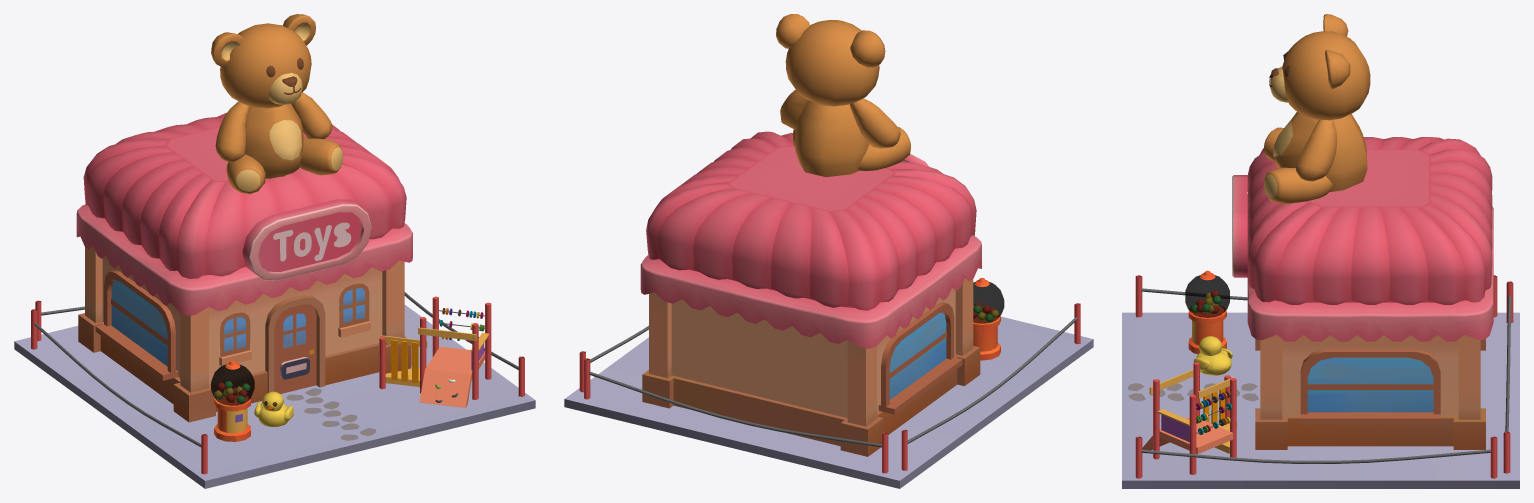
Rendered from ToyShop.fbx.
The picture shows the model from 3 angles, left to right: view 1: azimuth 30°, elevation 25°; view 2: azimuth 150°, elevation 25°; view 3: azimuth 270°, elevation 25°; orthographic projection. The views are drawn at different scales.
Visible parts, largest first — view 1: ToyShop; view 2: ToyShop; view 3: ToyShop.
Part boxes in pixels (bbox=[...]): ToyShop: bbox=[14, 14, 535, 488]; ToyShop: bbox=[564, 14, 1093, 488]; ToyShop: bbox=[1122, 14, 1519, 488].
Bounding box in the file's own units: 4 × 4.16 × 4.
